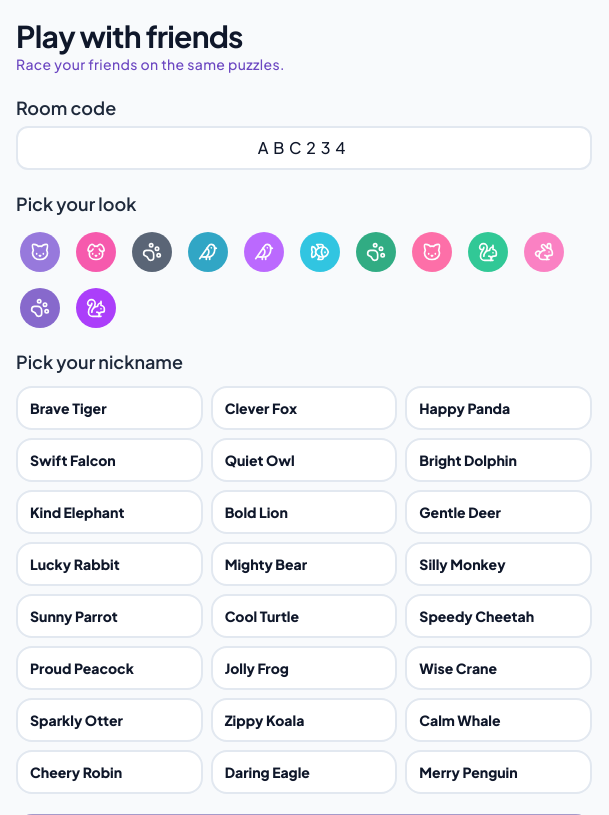
Test case: joining as a guest › comes into the lobby once the host accepts, and then cannot start or remove anyone
Click the button named "fox" at (96, 252), box [72,228,120,276]
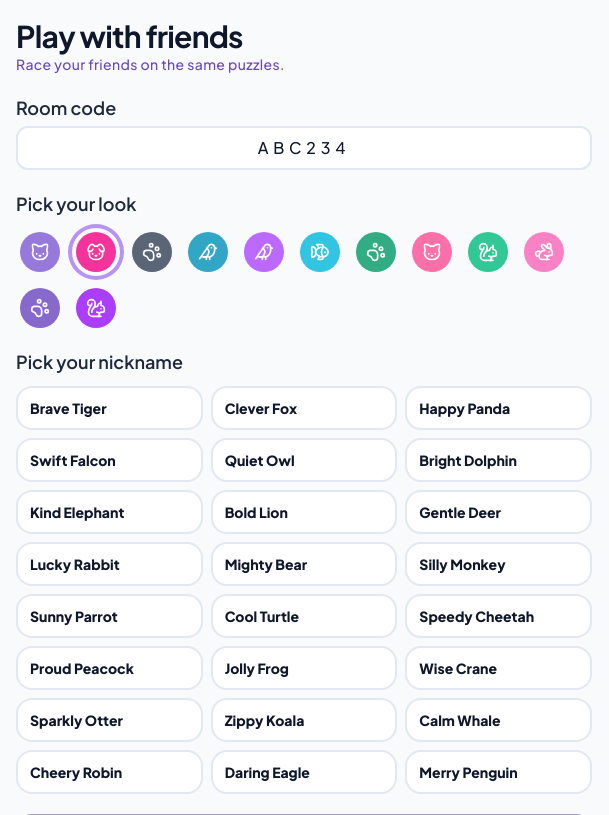
Click the button "Clever Fox" at (304, 408), box [211,386,397,430]
(page scrolled)
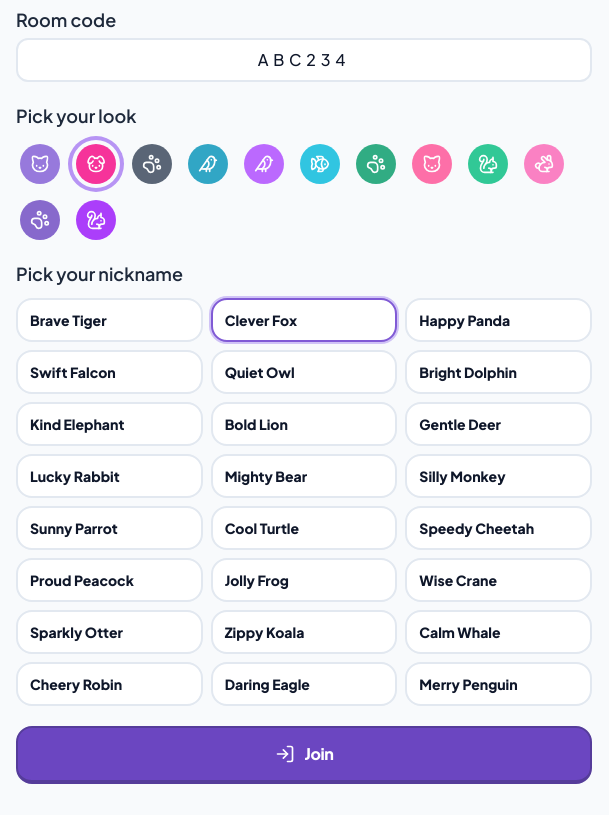
Click the button "Join" at (304, 755), box [16,726,592,784]
(page scrolled)
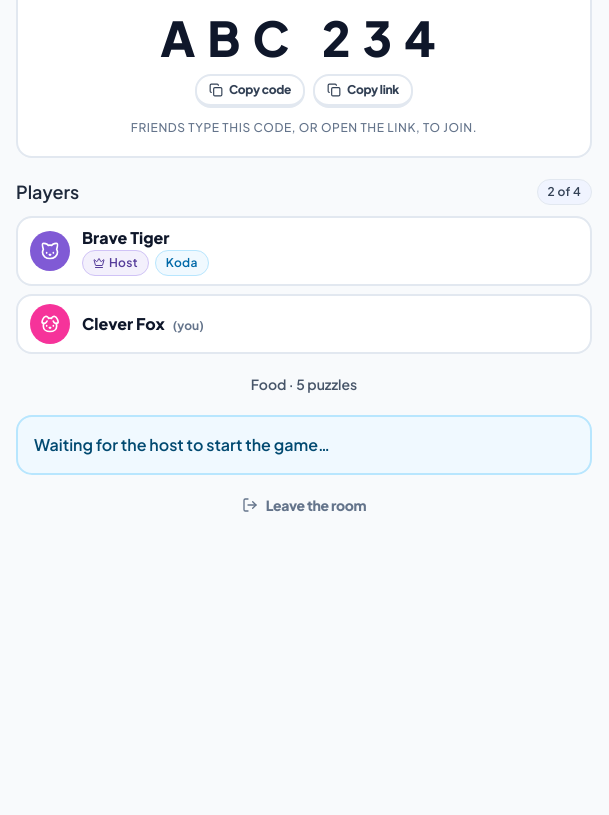
Expected: the text "ABC 234" is shown, [160,14,448,62]
Expected: the text "Waiting for the host to start the game…" is shown, [16,415,592,475]
